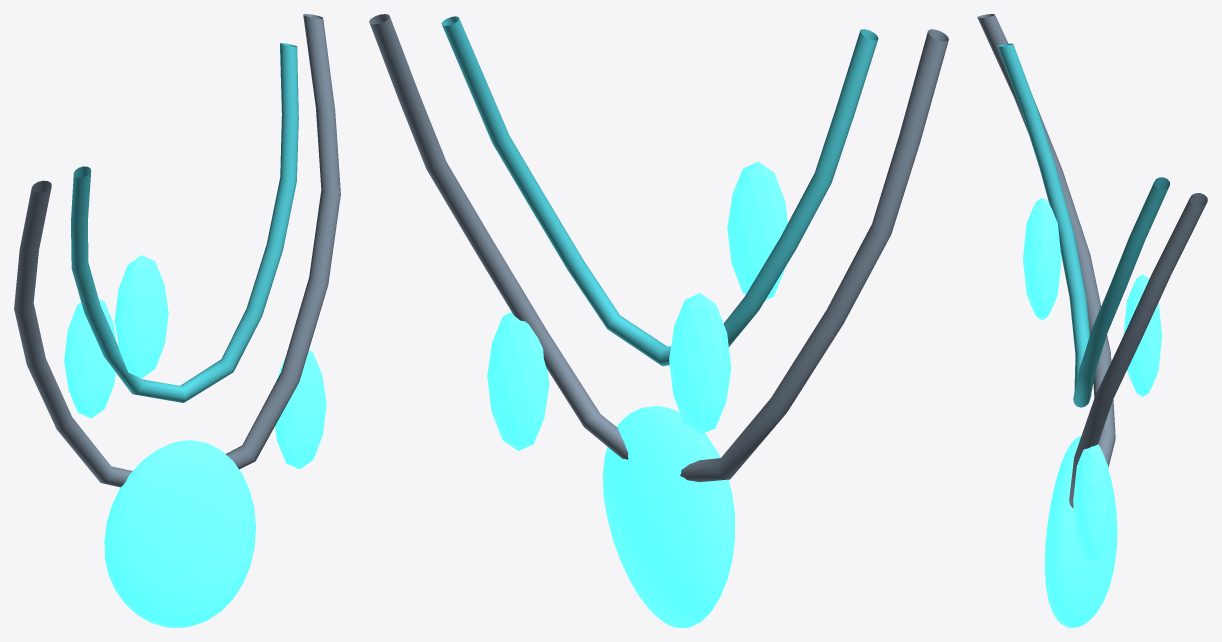
The model's file is necklace_v6.glb.
The picture shows the model from 3 angles, left to right: view 1: azimuth 30°, elevation 25°; view 2: azimuth 150°, elevation 25°; view 3: azimuth 270°, elevation 25°; orthographic projection. The views are drawn at different scales.
Parts seen in each view (by area): view 1: LOCKET_EMISSIVE, OUTER_CHAIN_PRIMARY, INNER_CHAIN_ACCENT, HELIX_SHARD_EMISSIVE.002, HELIX_SHARD_EMISSIVE.001, HELIX_SHARD_EMISSIVE; view 2: OUTER_CHAIN_PRIMARY, LOCKET_EMISSIVE, INNER_CHAIN_ACCENT, HELIX_SHARD_EMISSIVE.001, HELIX_SHARD_EMISSIVE, HELIX_SHARD_EMISSIVE.002; view 3: INNER_CHAIN_ACCENT, OUTER_CHAIN_PRIMARY, LOCKET_EMISSIVE, HELIX_SHARD_EMISSIVE.002, HELIX_SHARD_EMISSIVE, HELIX_SHARD_EMISSIVE.001.
Part boxes in pixels (x1,y1,x2,y2): LOCKET_EMISSIVE: [104, 440, 255, 627]; OUTER_CHAIN_PRIMARY: [14, 14, 340, 487]; INNER_CHAIN_ACCENT: [71, 43, 298, 402]; HELIX_SHARD_EMISSIVE.002: [114, 255, 168, 378]; HELIX_SHARD_EMISSIVE.001: [64, 299, 116, 418]; HELIX_SHARD_EMISSIVE: [275, 350, 326, 469]; OUTER_CHAIN_PRIMARY: [369, 14, 948, 482]; LOCKET_EMISSIVE: [602, 406, 734, 627]; INNER_CHAIN_ACCENT: [441, 16, 878, 366]; HELIX_SHARD_EMISSIVE.001: [669, 293, 731, 434]; HELIX_SHARD_EMISSIVE: [487, 312, 549, 450]; HELIX_SHARD_EMISSIVE.002: [727, 161, 787, 300]; INNER_CHAIN_ACCENT: [997, 43, 1169, 407]; OUTER_CHAIN_PRIMARY: [977, 14, 1207, 508]; LOCKET_EMISSIVE: [1044, 436, 1117, 627]; HELIX_SHARD_EMISSIVE.002: [1023, 198, 1061, 320]; HELIX_SHARD_EMISSIVE: [1073, 444, 1111, 562]; HELIX_SHARD_EMISSIVE.001: [1123, 274, 1161, 396].
Bounding box in the file's own units: 1.88 × 2.38 × 0.9537.
